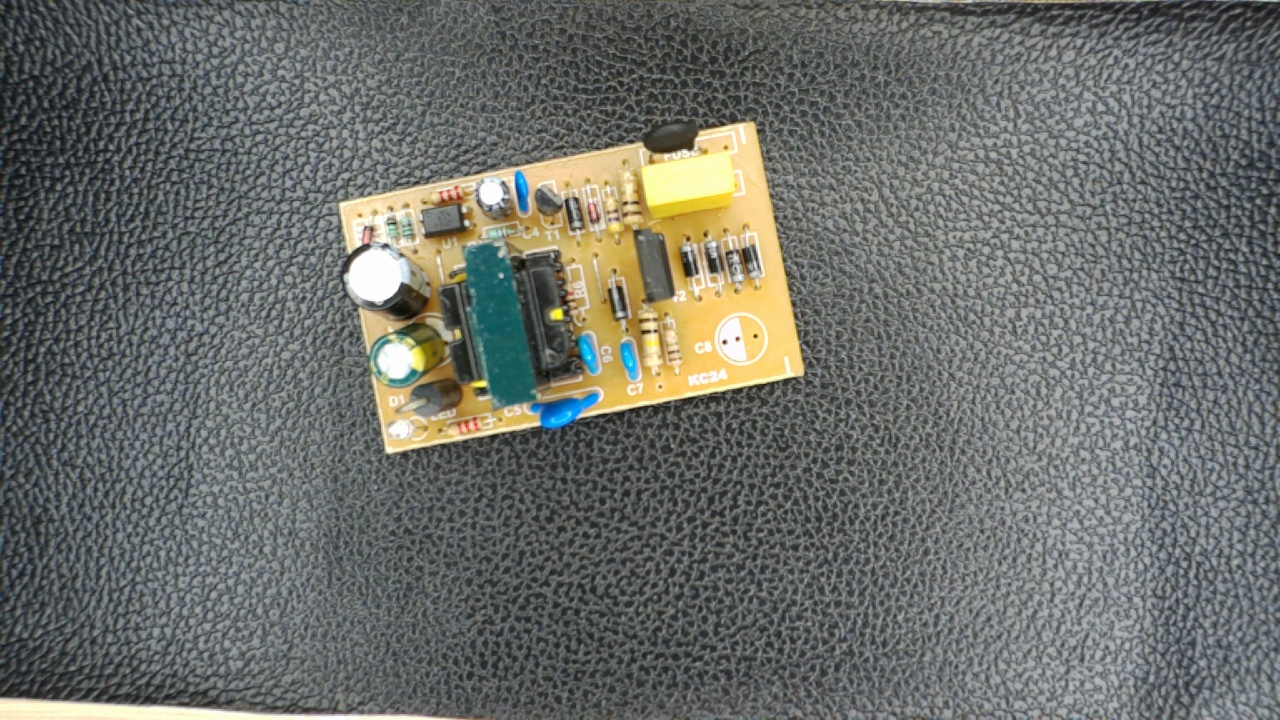fuse: (629, 117, 722, 159)
mov: (525, 387, 606, 432)
optocoupler: (411, 203, 476, 240)
